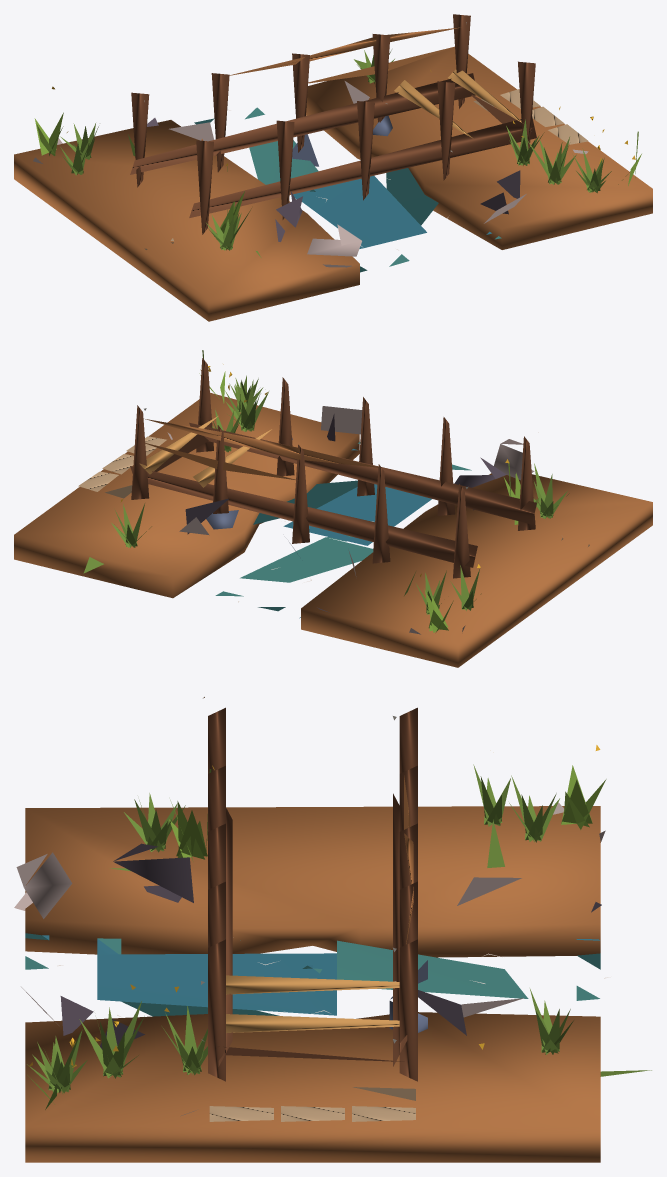
3 renders of one model, top to bottom at view 1: azimuth 30°, elevation 25°; view 2: azimuth 150°, elevation 25°; view 3: azimuth 270°, elevation 25°, orthographic. The views are drawn at different scales.
Bounding box in the file's own units: 7.92 × 2.13 × 6.66.
